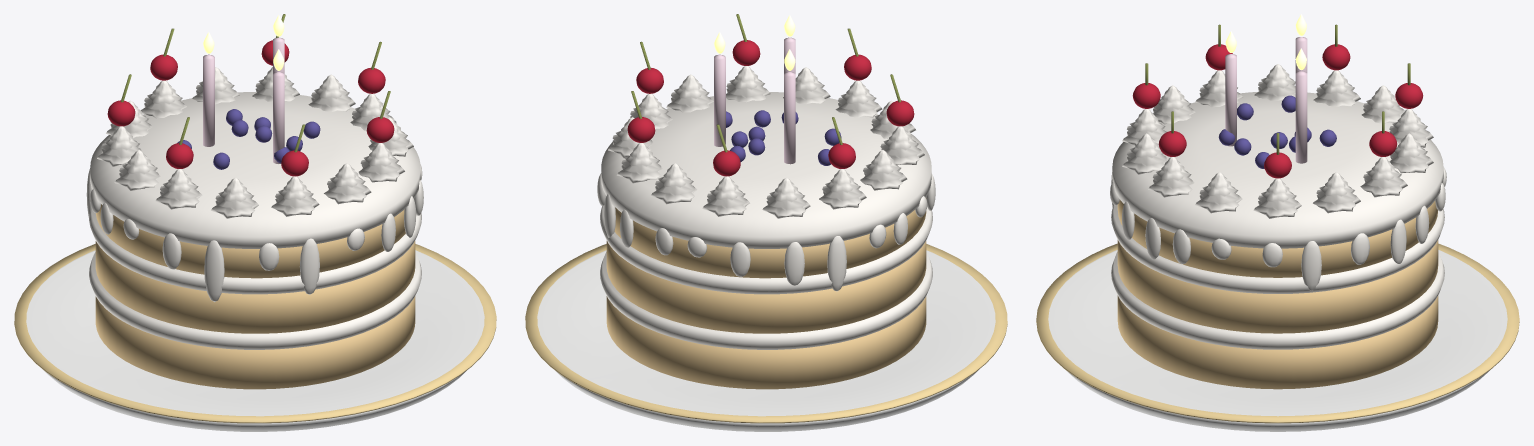
Rendered from cake.glb.
3 views of the same model, side by side, from view 1: azimuth 30°, elevation 25°; view 2: azimuth 150°, elevation 25°; view 3: azimuth 270°, elevation 25° (orthographic).
Parts seen in each view (by area): view 1: Cake_body, Cake_plate, Cake_rim; view 2: Cake_body, Cake_plate, Cake_rim; view 3: Cake_body, Cake_plate, Cake_rim.
Boxes of the visible parts, x1=… form: Cake_body: x1=86, y1=14, x2=423, y2=389; Cake_plate: x1=26, y1=250, x2=484, y2=431; Cake_rim: x1=14, y1=244, x2=496, y2=423; Cake_body: x1=597, y1=14, x2=935, y2=389; Cake_plate: x1=537, y1=250, x2=995, y2=431; Cake_rim: x1=525, y1=244, x2=1007, y2=423; Cake_body: x1=1110, y1=24, x2=1446, y2=389; Cake_plate: x1=1048, y1=250, x2=1507, y2=431; Cake_rim: x1=1036, y1=243, x2=1519, y2=423.
Bounding box in the file's own units: 0.362 × 0.252 × 0.362.
